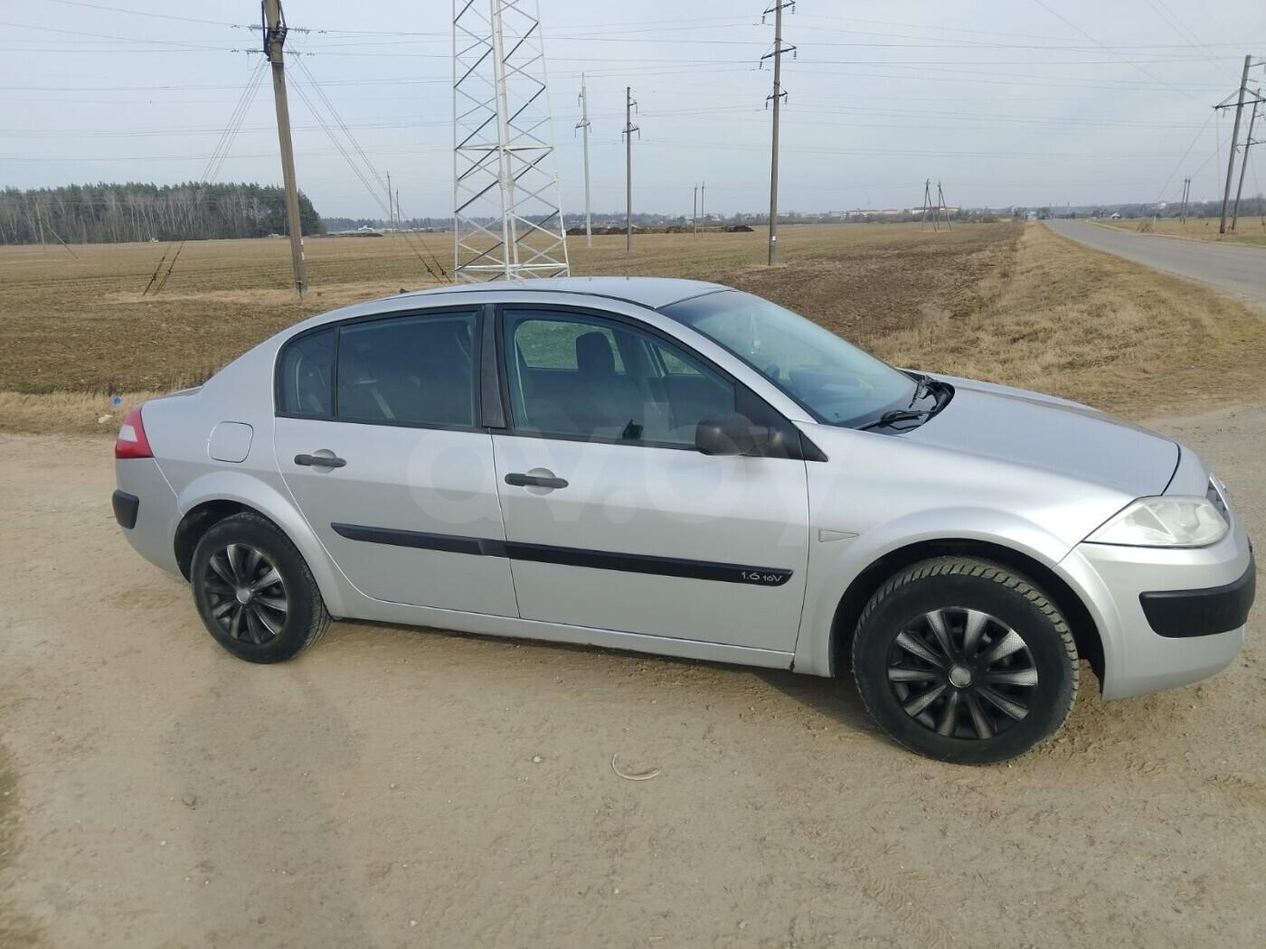Megane_2002-2006: (114, 283, 1261, 771)
